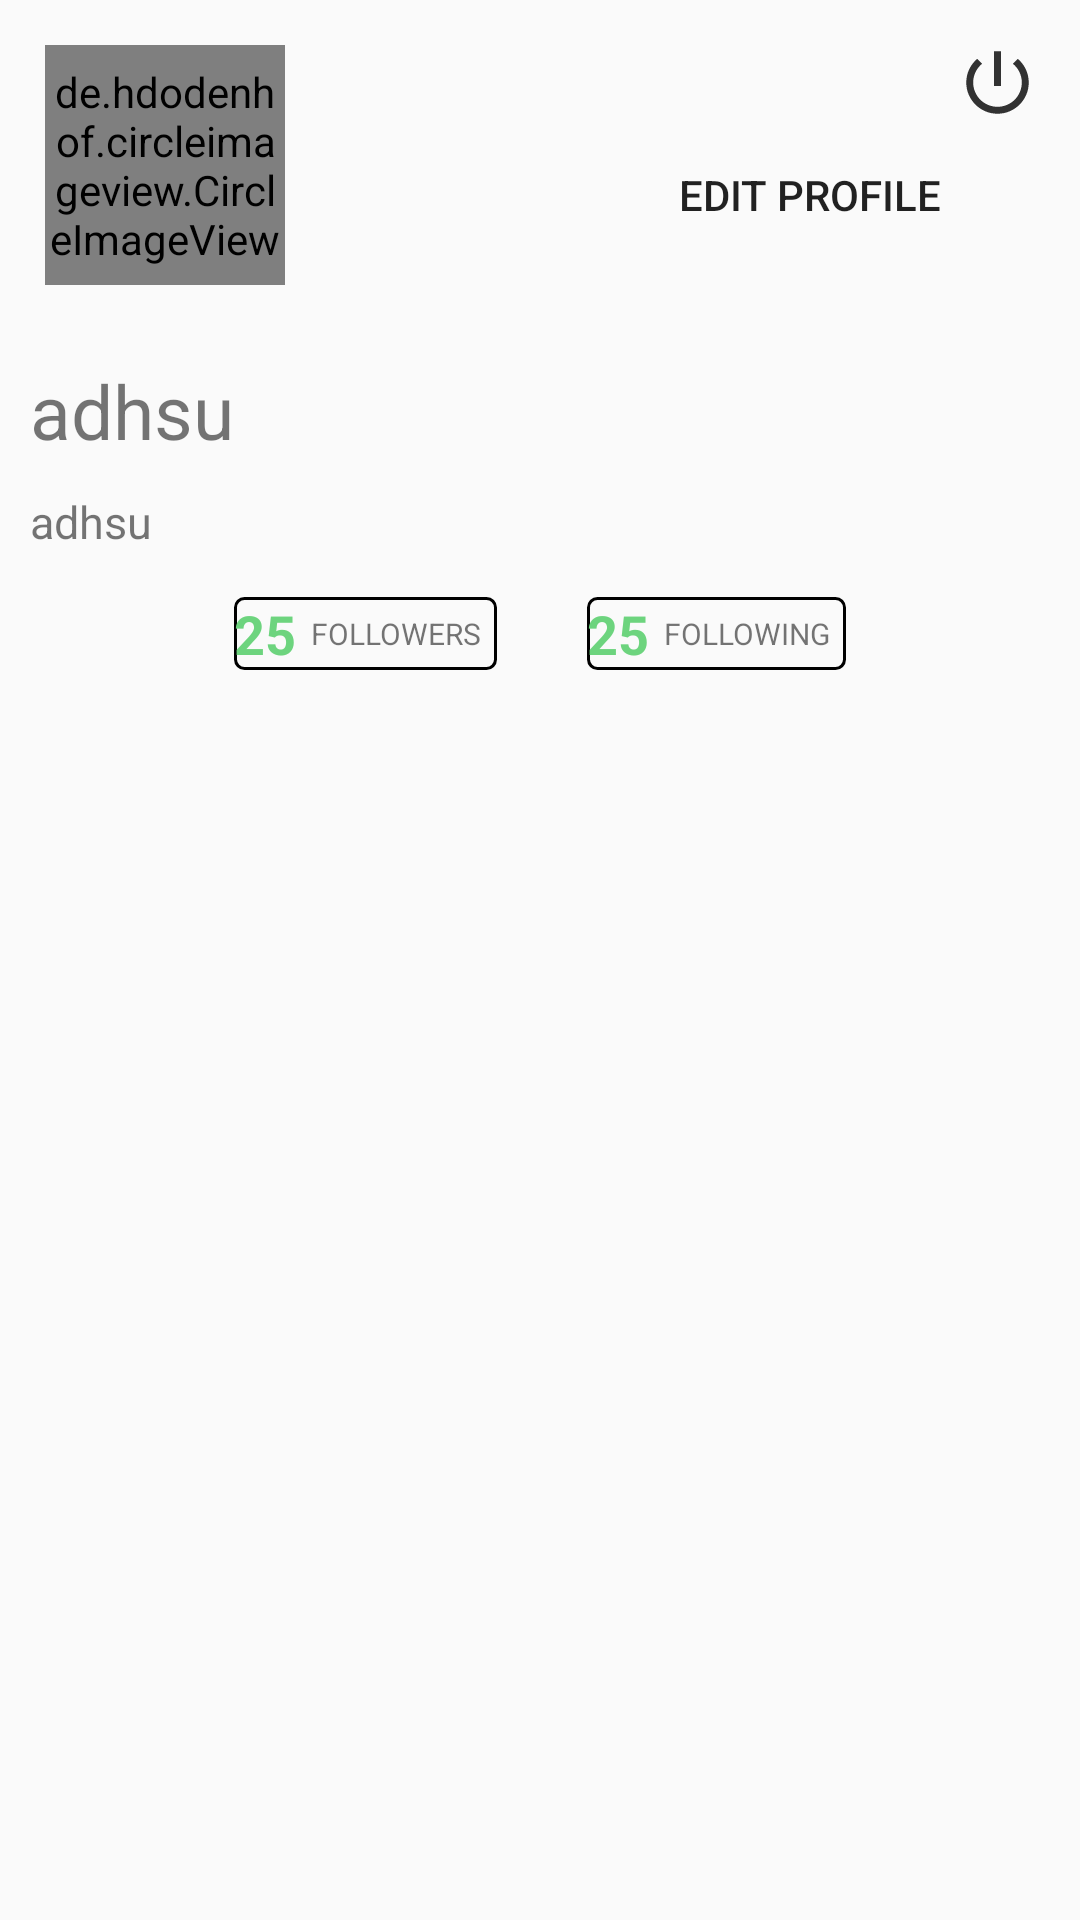

Icon click points for this 1080px×1920px phone screenshot, format point (x, y):
power: point (997, 82)
